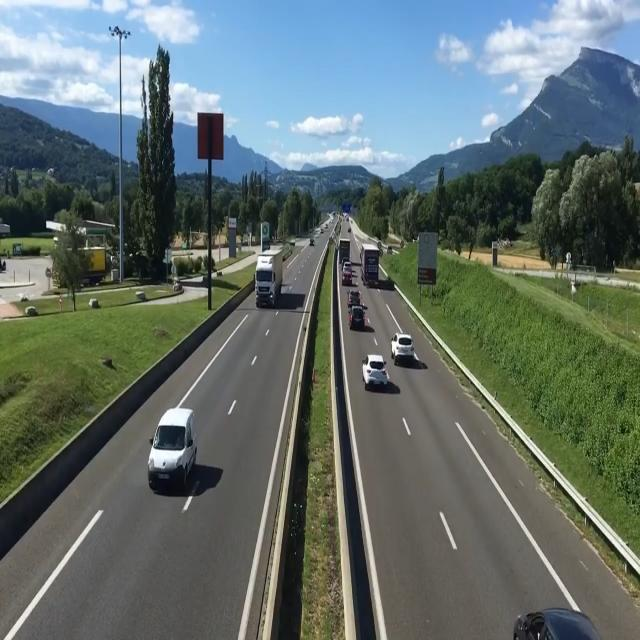car: (150, 405, 198, 497), (362, 355, 391, 393), (392, 333, 421, 370), (349, 293, 371, 333)
truck: (256, 247, 283, 312), (364, 244, 383, 287)
